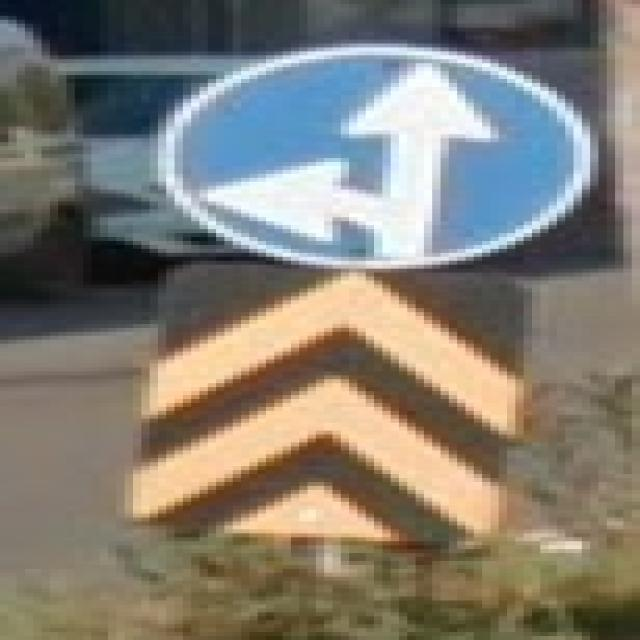Straight or Left: (163, 47, 595, 268)
